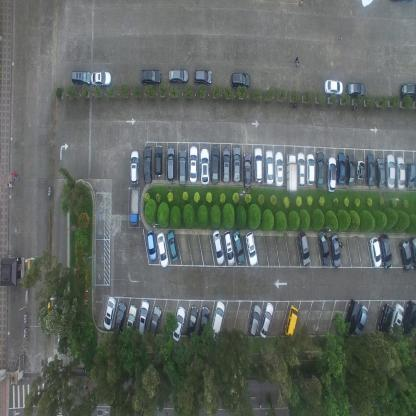car: (344, 298, 362, 335), (211, 300, 226, 344), (378, 303, 395, 339), (259, 301, 275, 339), (147, 305, 162, 342), (284, 303, 300, 337), (137, 298, 149, 342), (391, 302, 405, 339), (172, 305, 186, 342), (248, 304, 263, 338), (286, 150, 298, 192), (232, 230, 246, 266), (297, 231, 311, 267), (223, 230, 236, 268), (318, 230, 331, 268), (212, 228, 225, 265), (380, 233, 393, 270), (102, 296, 116, 330), (156, 232, 169, 268), (245, 230, 258, 266), (113, 300, 126, 336), (369, 235, 383, 268), (355, 304, 369, 337), (399, 240, 413, 272), (186, 306, 199, 340), (124, 304, 137, 338), (142, 144, 153, 184), (403, 300, 415, 336), (346, 79, 367, 99), (90, 68, 112, 87), (386, 152, 397, 190), (167, 66, 190, 84), (316, 148, 326, 189), (188, 143, 198, 184), (178, 146, 188, 187), (129, 187, 139, 228), (198, 306, 210, 340), (232, 144, 242, 184), (210, 145, 220, 185), (200, 146, 210, 186), (167, 229, 179, 262), (139, 67, 162, 84), (396, 154, 407, 189), (193, 67, 213, 86), (327, 154, 337, 192), (222, 146, 232, 184), (166, 144, 176, 182), (231, 70, 252, 88), (146, 229, 157, 263), (330, 234, 341, 268), (264, 148, 274, 185), (129, 148, 139, 185), (70, 68, 91, 85), (306, 152, 316, 187), (254, 146, 263, 184), (243, 151, 252, 189), (324, 78, 343, 96), (376, 154, 386, 188), (366, 153, 376, 187), (275, 150, 284, 187), (347, 150, 356, 186), (337, 151, 346, 186), (154, 143, 163, 177), (298, 150, 306, 187), (401, 80, 415, 99), (406, 161, 415, 189), (356, 158, 366, 181), (410, 235, 415, 264)
